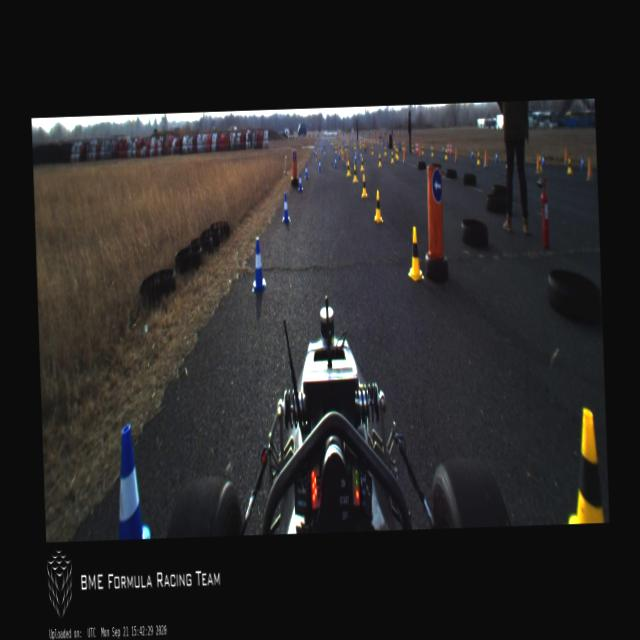blue_cone: (110, 422, 150, 538), (250, 235, 266, 292), (281, 192, 290, 222), (579, 154, 585, 170), (298, 172, 302, 191), (304, 164, 308, 178), (318, 157, 322, 170), (541, 153, 545, 166), (353, 152, 357, 163), (494, 152, 498, 162), (322, 148, 326, 158), (359, 148, 362, 160), (471, 148, 474, 159), (334, 156, 336, 168), (354, 148, 356, 158), (442, 142, 444, 152), (338, 150, 340, 160)
large_orange_cone: (449, 142, 452, 156), (446, 142, 449, 154), (416, 143, 418, 152), (414, 143, 416, 152)
unknown_cone: (586, 156, 594, 180), (283, 155, 288, 175), (535, 154, 540, 172), (483, 150, 488, 167), (454, 146, 458, 162), (402, 147, 406, 162), (368, 140, 371, 154), (418, 146, 421, 158), (346, 150, 349, 160), (342, 150, 345, 160), (404, 142, 406, 154), (316, 150, 318, 162)
yellow_cone: (564, 407, 605, 523), (406, 226, 424, 282), (372, 190, 382, 222), (360, 174, 368, 198), (566, 156, 572, 174), (352, 165, 358, 182), (346, 160, 350, 177), (359, 157, 364, 170), (476, 152, 480, 166), (390, 150, 394, 163), (378, 154, 382, 166), (444, 148, 448, 160), (430, 146, 433, 157), (394, 146, 396, 158), (396, 148, 398, 160), (384, 145, 386, 155), (371, 145, 373, 155), (412, 142, 414, 152), (422, 145, 424, 154)
